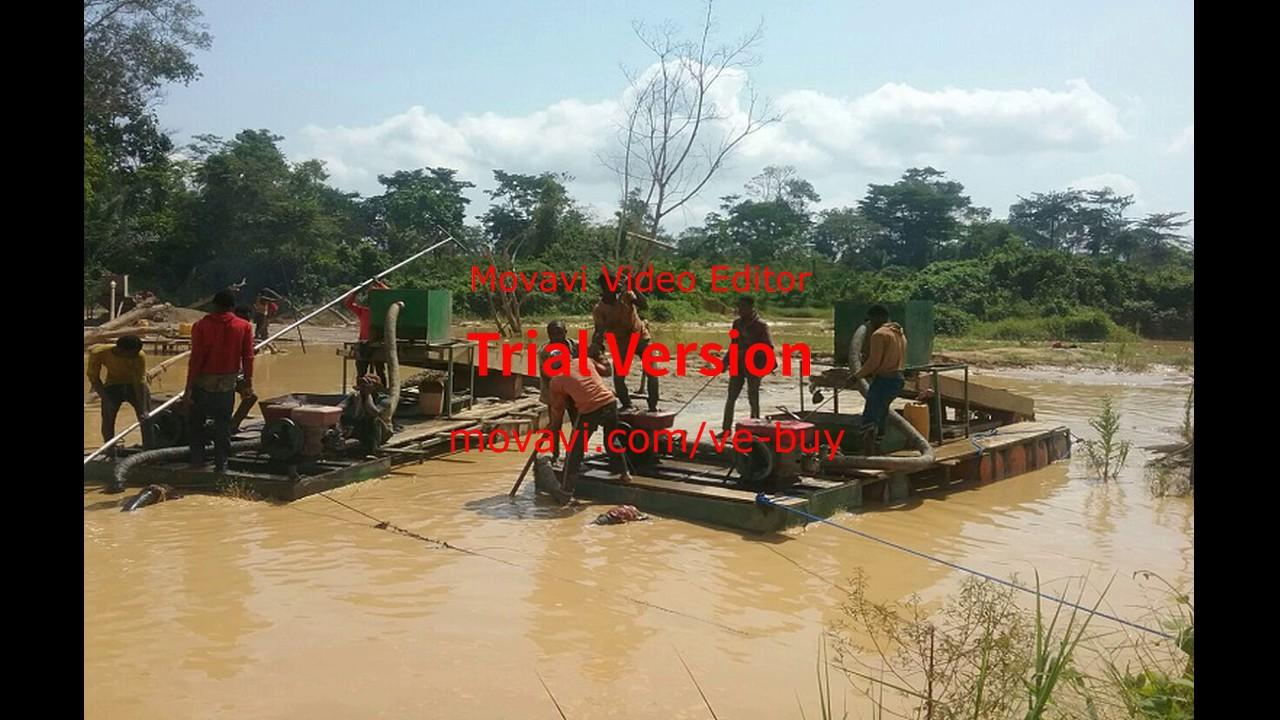Person: (537, 347, 641, 498), (183, 288, 257, 489), (586, 269, 662, 414), (844, 302, 909, 455), (536, 322, 599, 467), (86, 334, 155, 459), (716, 296, 775, 435), (341, 277, 392, 398), (250, 288, 284, 343)
ProcessingEquiment: (812, 294, 1038, 434), (341, 276, 552, 412)
